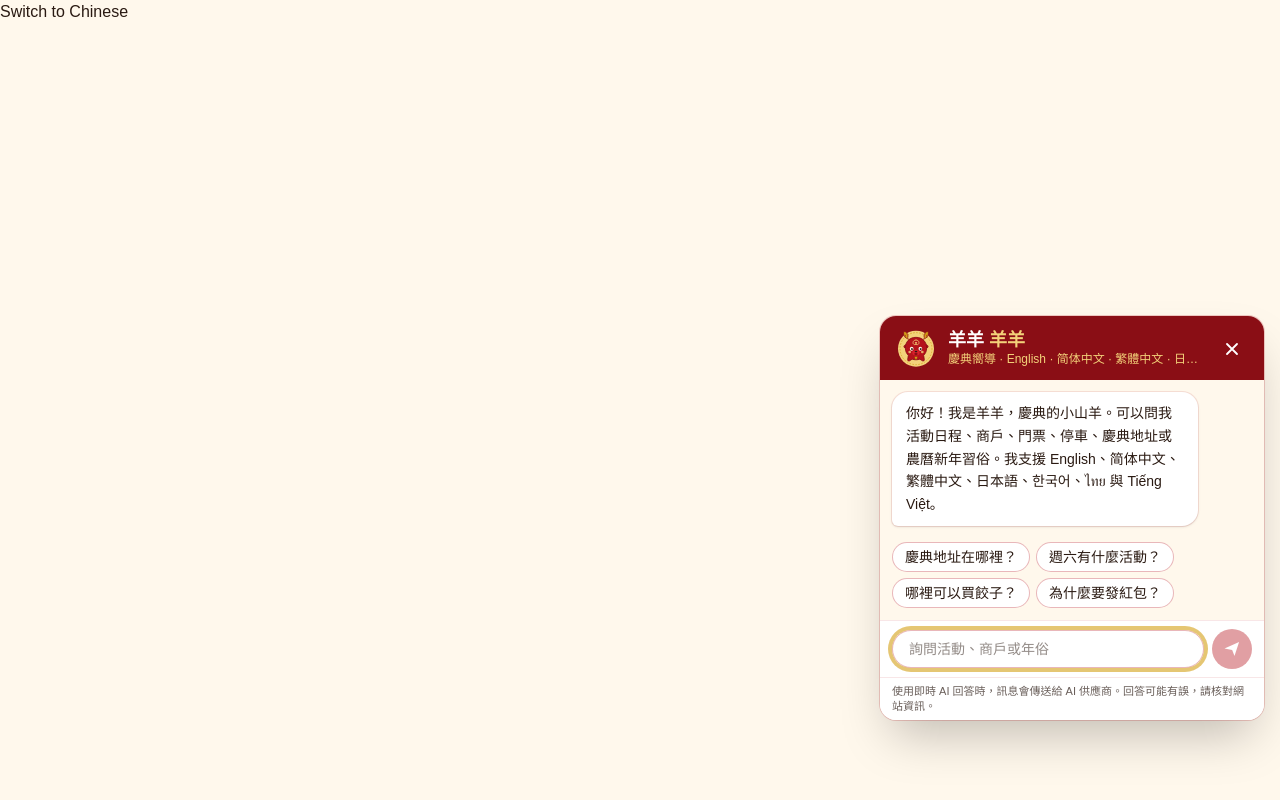
Scenario: chat panel source-of-truth and recovery › answers the zh-Hant event-address question locally even with live AI configured
The width and height of the screenshot is (1280, 800).
Type "活動的地址在哪裡？" into the field with test id "chat-input" at {"x": 1048, "y": 649}, box [892,630,1204,668]
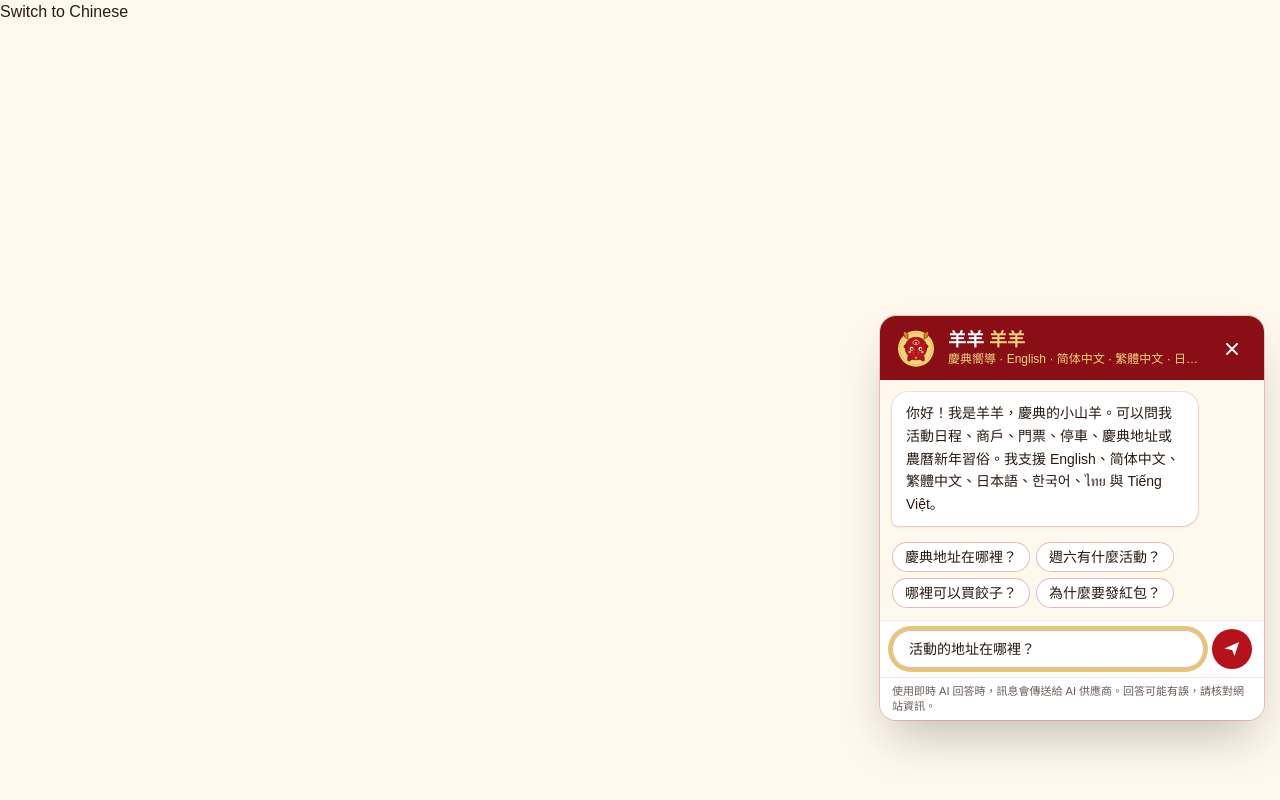
Click the button with test id "chat-send" at {"x": 1232, "y": 649}, box [1212,629,1252,669]
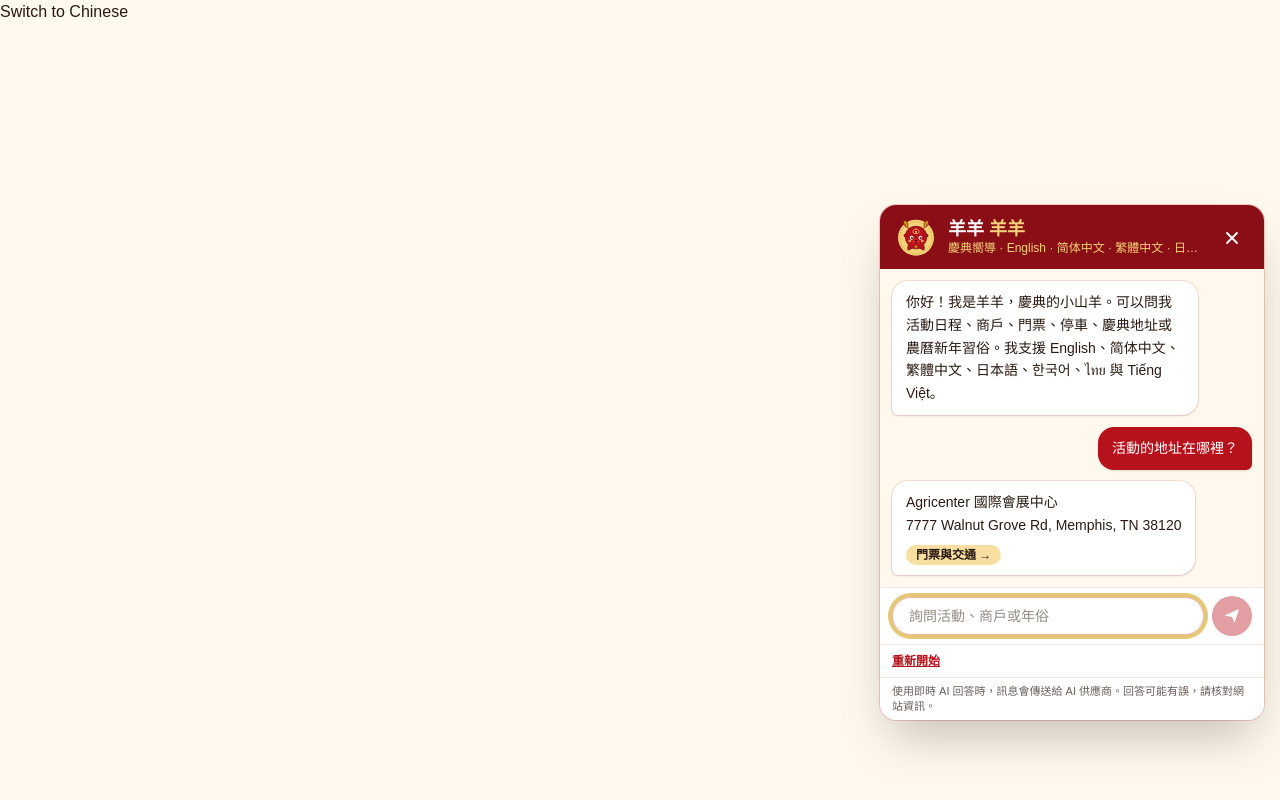
Now the number of elements with test id "chat-bot" is 2, box [892,281,1198,415]; [892,481,1196,575]
Now the element with test id "chat-bot" shows "7777 Walnut Grove Rd, Memphis, TN 38120", box [906,494,1182,533]
Now the element with test id "chat-bot" shows "Agricenter 國際會展中心", box [906,494,1182,533]
